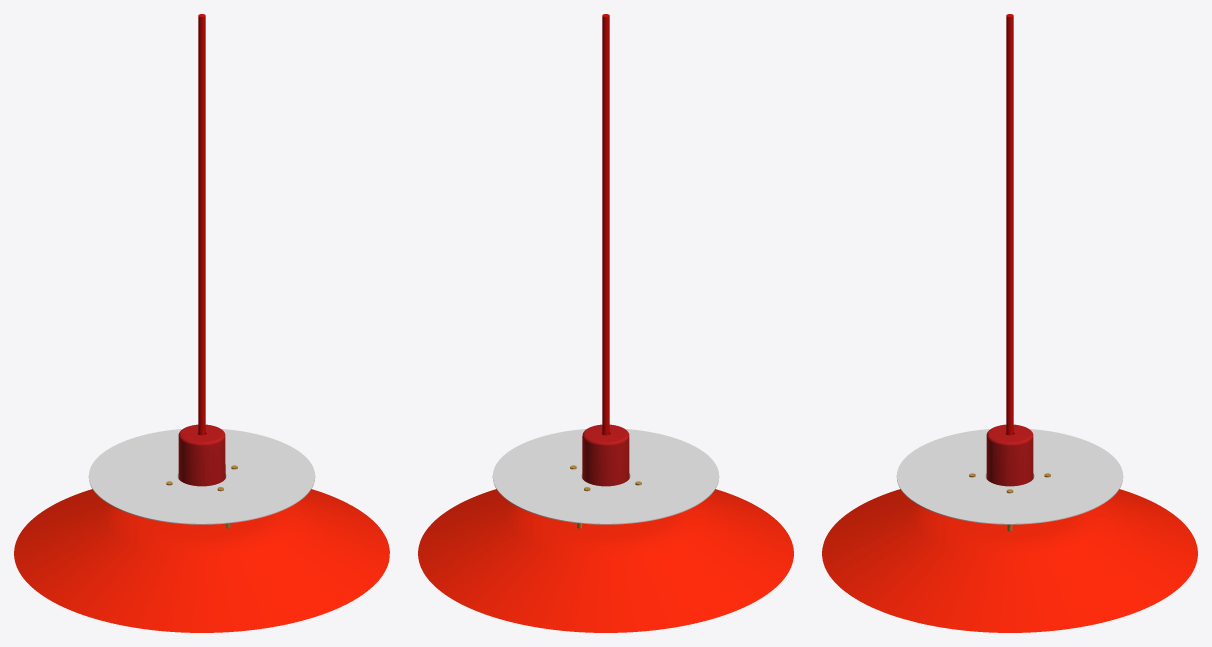
File: PH5 pendel.glb
3 views of the same model, side by side, from view 1: azimuth 30°, elevation 25°; view 2: azimuth 150°, elevation 25°; view 3: azimuth 270°, elevation 25° (orthographic).
Parts seen in each view (by area): view 1: Object_7, Object_9, Object_14, Object_12; view 2: Object_7, Object_9, Object_14, Object_12; view 3: Object_7, Object_9, Object_14, Object_12.
Part boxes in pixels (x1=…): Object_7: x1=14, y1=489, x2=389, y2=632; Object_9: x1=88, y1=429, x2=315, y2=524; Object_14: x1=198, y1=14, x2=205, y2=435; Object_12: x1=178, y1=424, x2=225, y2=486; Object_7: x1=418, y1=489, x2=793, y2=632; Object_9: x1=492, y1=429, x2=719, y2=524; Object_14: x1=602, y1=14, x2=609, y2=435; Object_12: x1=582, y1=424, x2=629, y2=486; Object_7: x1=822, y1=489, x2=1197, y2=632; Object_9: x1=896, y1=429, x2=1123, y2=524; Object_14: x1=1006, y1=14, x2=1013, y2=435; Object_12: x1=986, y1=424, x2=1033, y2=486.
Size of the model in its own units: 0.4 by 0.6932 by 0.4.
5 materials, 4 textured.
